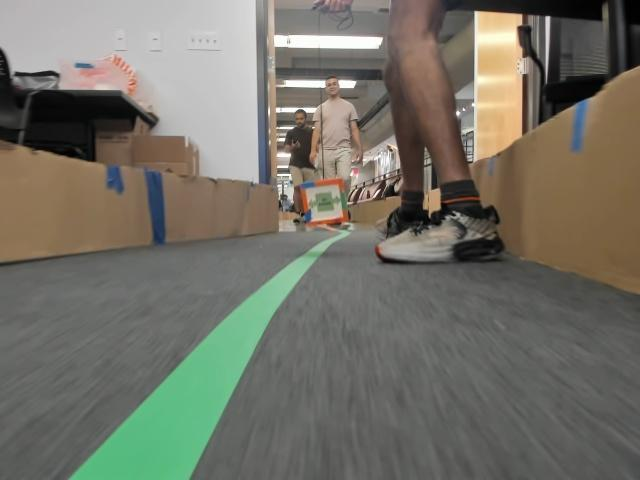Go Around: (307, 194, 338, 212)
